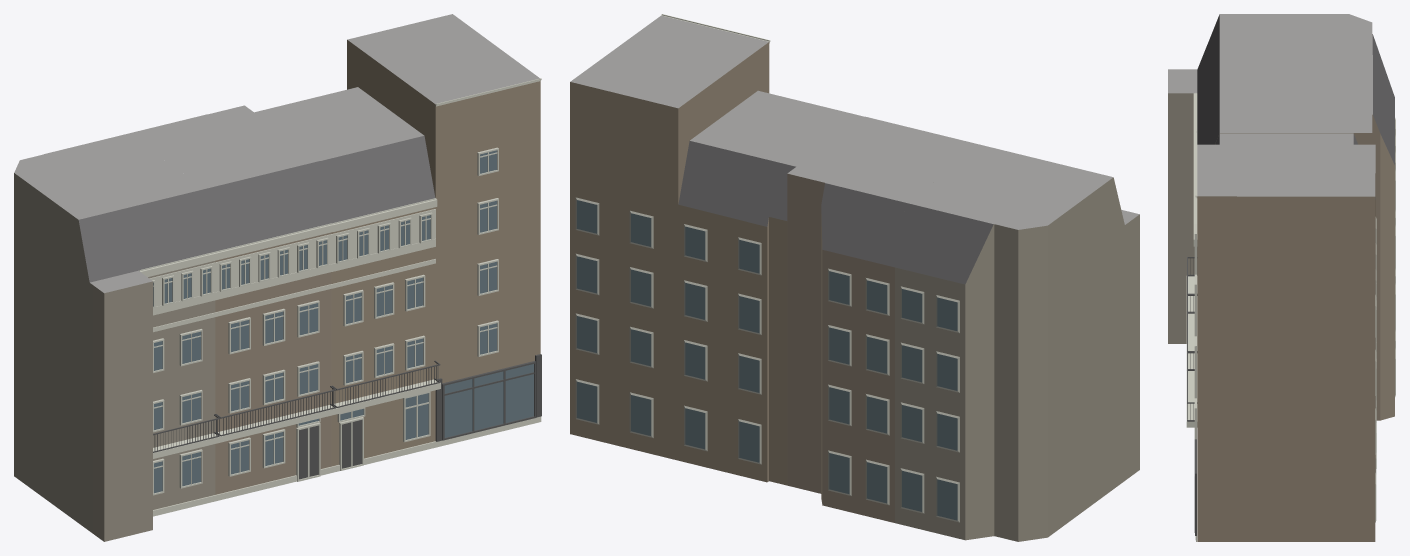
The model's file is chunk-face-evertsen-139-143.glb.
3 renders of one model, left to right at view 1: azimuth 30°, elevation 25°; view 2: azimuth 150°, elevation 25°; view 3: azimuth 270°, elevation 25°, orthographic. The views are drawn at different scales.
Visible parts, largest first — view 1: face-evertsen-139-143; view 2: face-evertsen-139-143; view 3: face-evertsen-139-143.
Boxes of the visible parts, left/top/right/bottom form: face-evertsen-139-143: left=14, top=14, right=541, bottom=541; face-evertsen-139-143: left=570, top=14, right=1139, bottom=541; face-evertsen-139-143: left=1168, top=14, right=1395, bottom=541.
Bounding box in the file's own units: 24 × 17.44 × 10.4.
